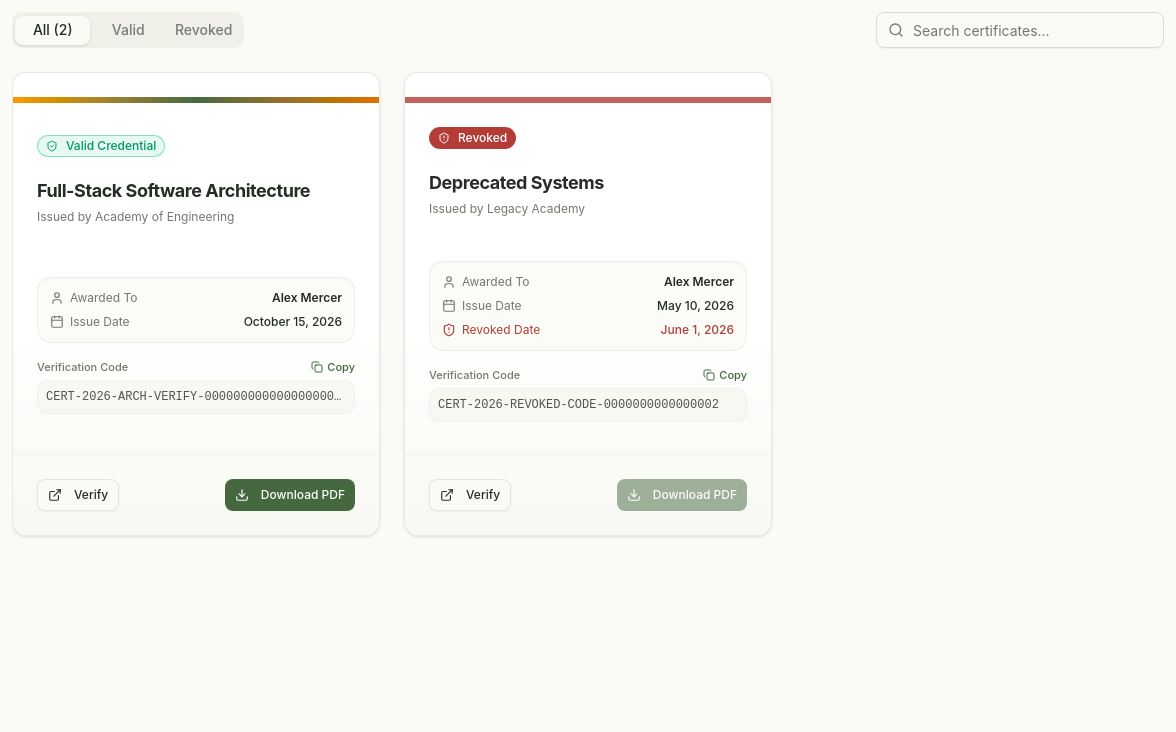
Scenario: CertificateList Component › filters certificates by tab and search input
Expected: the heading "Full-Stack Software Architecture" is shown, [37,177,355,205]
Expected: the heading "Deprecated Systems" is shown, [429,172,604,193]
Note: Filter valid
Step 1. Click the tab "Valid" → click(128, 30), box [90,16,166,44]
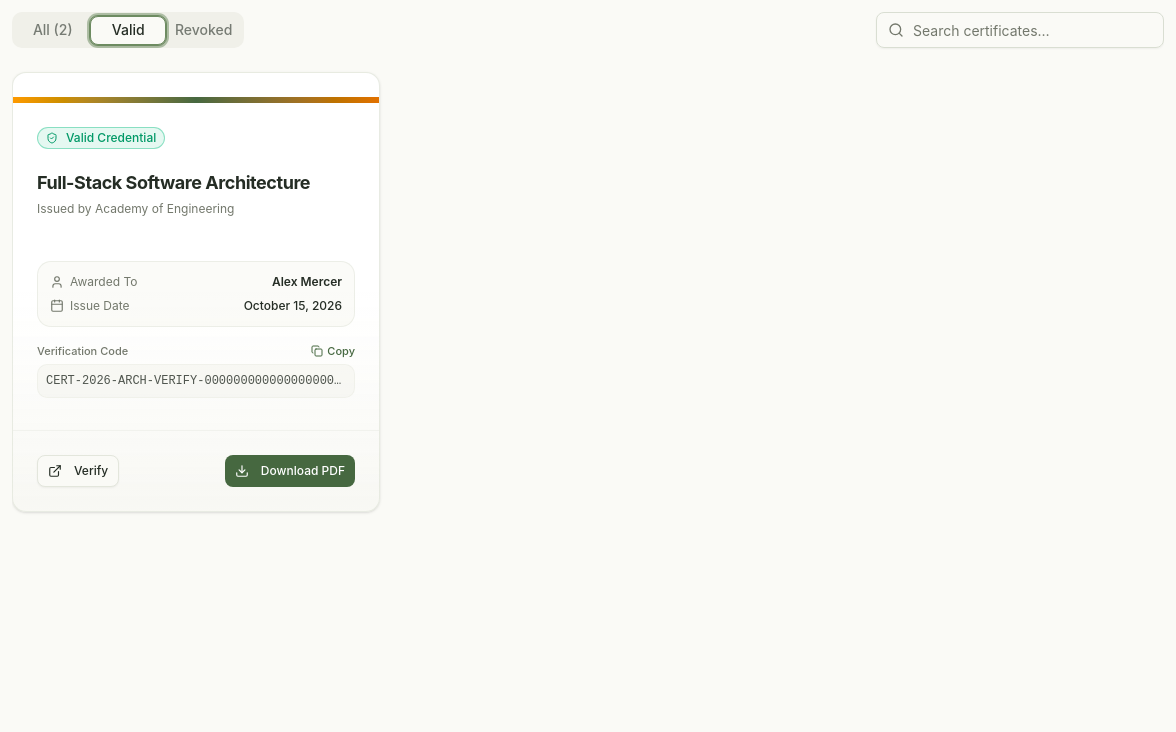
Expected: the heading "Full-Stack Software Architecture" is shown, [37,169,355,197]
Result: the heading "Deprecated Systems" is gone
Note: Search query
Step 2. Type "nonexistent" into the field with placeholder "Search certificates…" → (1020, 30), box [876,12,1164,48]
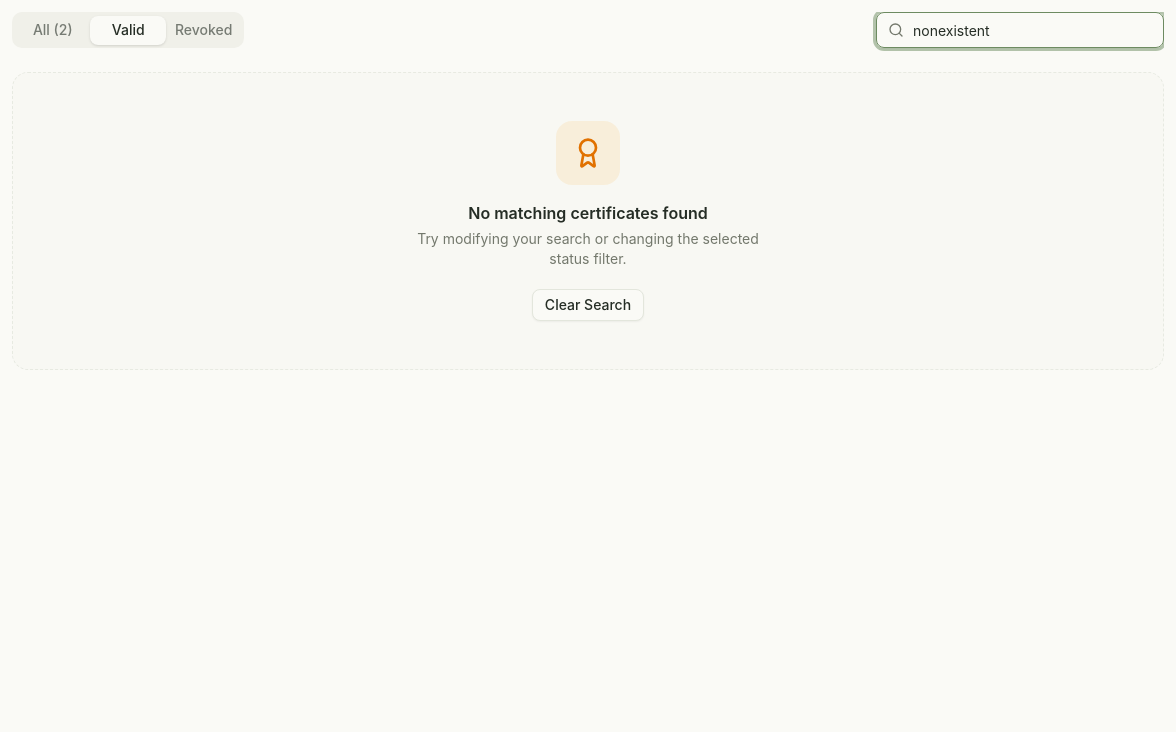
Result: the heading "No matching certificates found" is shown at [468,201,708,225]
